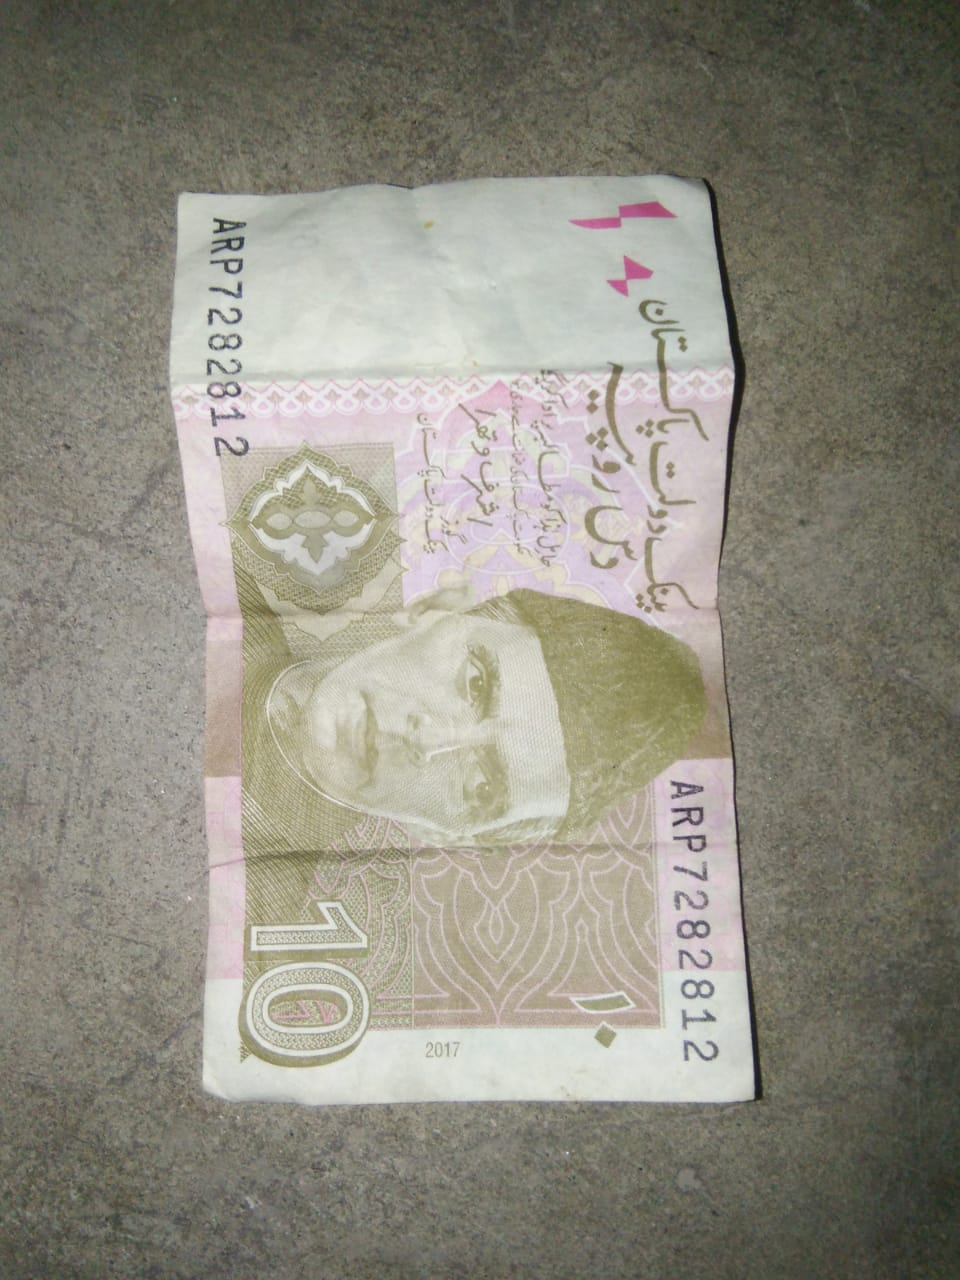10 rupee: (142, 185, 766, 1103)
